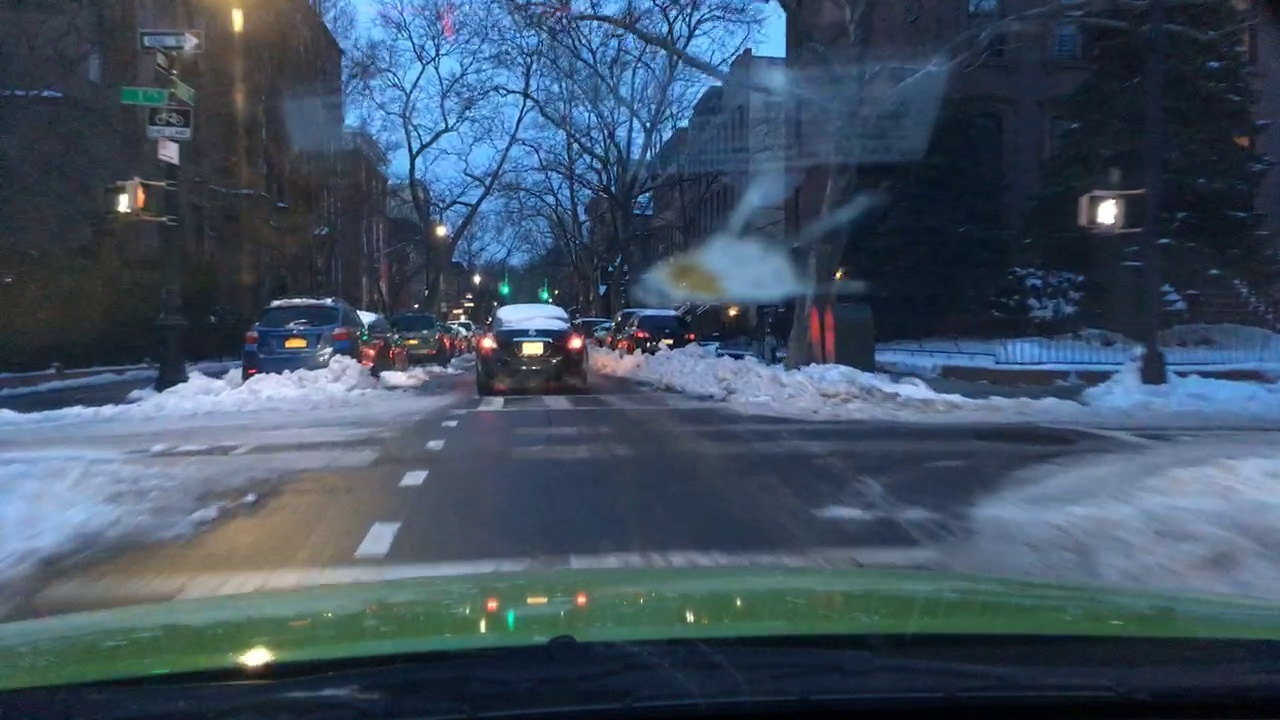car: (241, 296, 380, 391), (474, 302, 591, 390), (620, 313, 699, 360), (385, 310, 452, 364)
